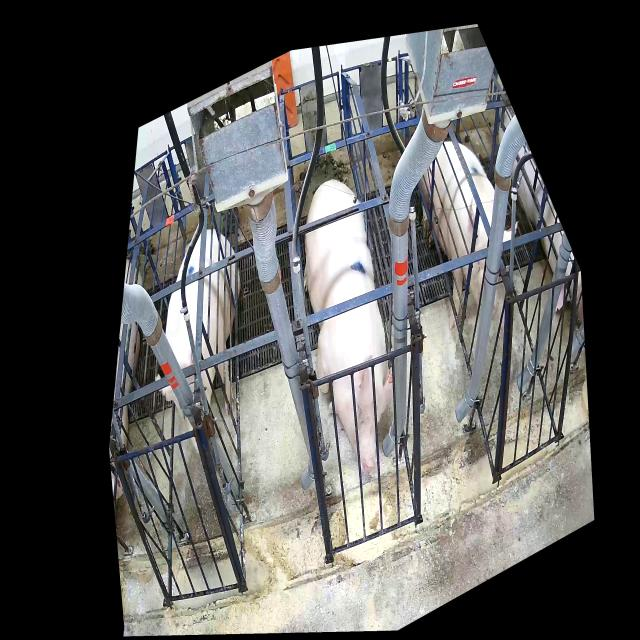pig: (304, 180, 393, 473), (155, 229, 242, 452), (420, 142, 518, 330)
